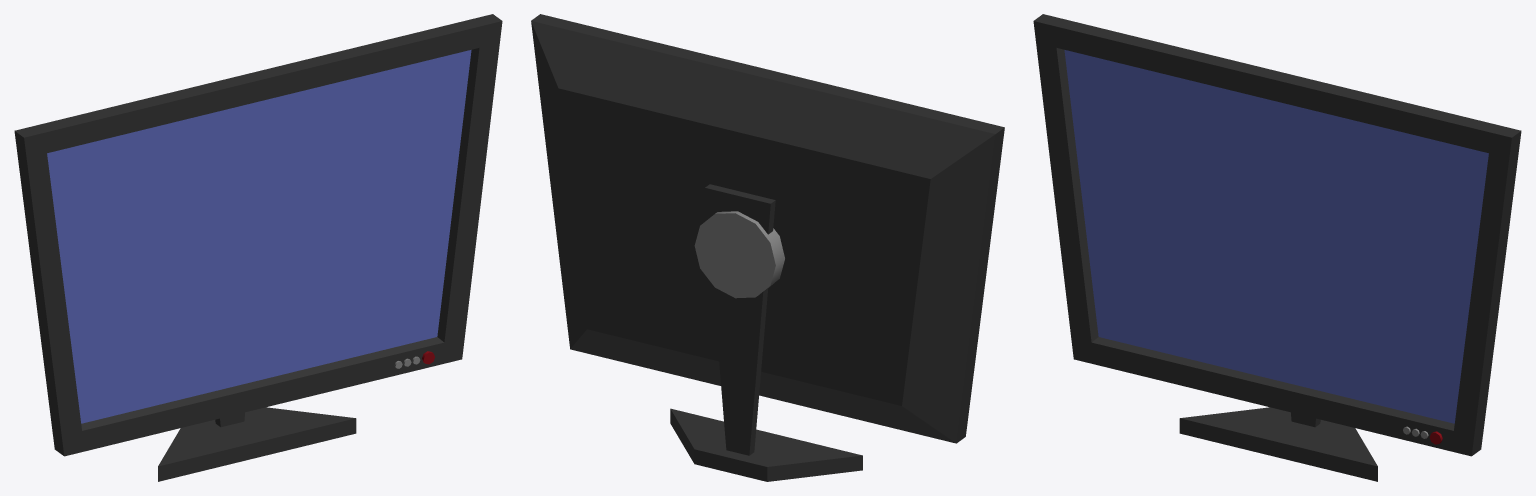
Rendered from Prop_Monitor.FBX.
3 renders of one model, left to right at view 1: azimuth 30°, elevation 25°; view 2: azimuth 150°, elevation 25°; view 3: azimuth 330°, elevation 25°, orthographic. The views are drawn at different scales.
Parts seen in each view (by area): view 1: Monitor; view 2: Monitor; view 3: Monitor.
Boxes of the visible parts, x1,y1,x2,y2 form: Monitor: [14, 14, 502, 481]; Monitor: [531, 14, 1004, 481]; Monitor: [1033, 14, 1521, 481].
Size of the model in its own units: 57.15 by 43.71 by 9.26.
Materials: 1 (1 with a texture image).
